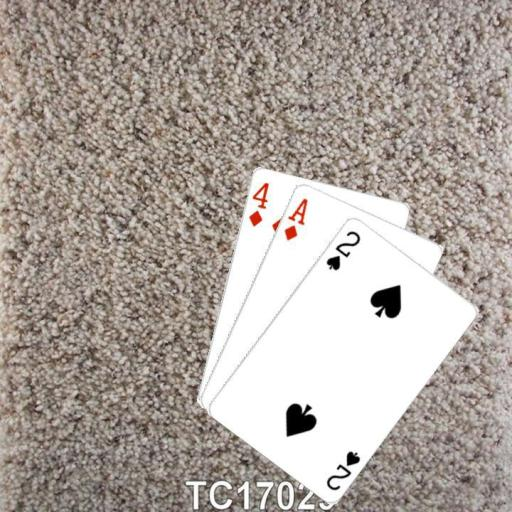2S: (323, 227, 362, 272), (323, 447, 362, 492)
4D: (245, 179, 270, 228)
AD: (281, 194, 310, 242)
